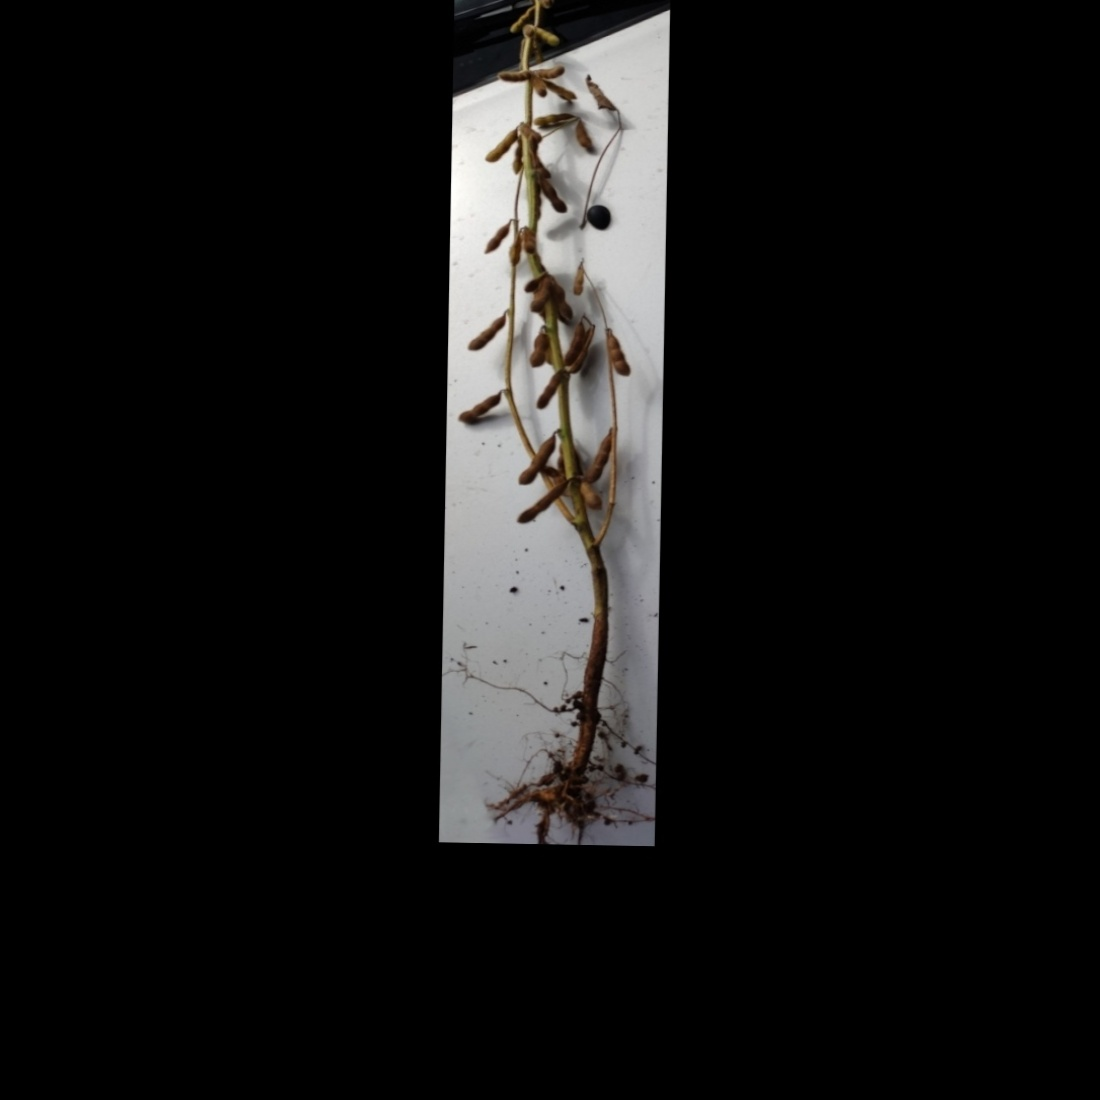pod: (510, 482, 570, 529), (512, 431, 558, 488), (464, 308, 509, 356), (452, 391, 505, 425), (583, 428, 613, 485), (482, 124, 519, 166), (537, 173, 572, 217), (532, 369, 562, 414), (607, 327, 635, 377), (480, 218, 513, 257), (525, 327, 550, 369), (528, 110, 577, 129), (530, 24, 561, 49), (494, 68, 534, 85)
soy: (444, 0, 662, 813)
